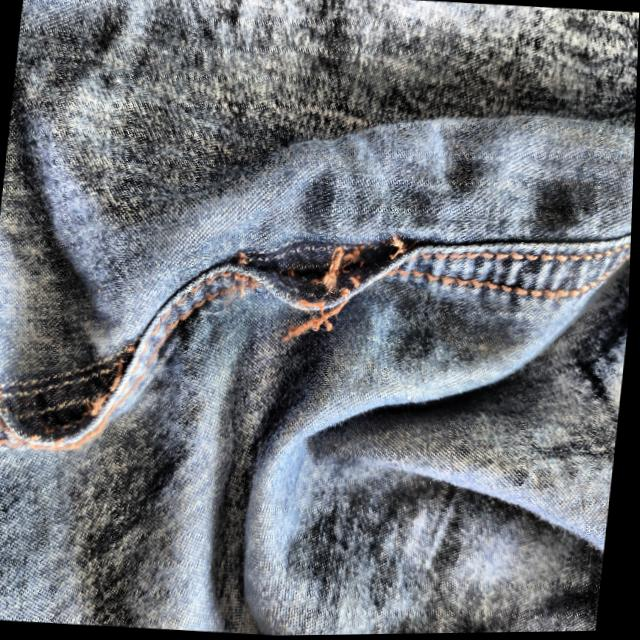seam: (239, 170, 409, 340), (0, 319, 140, 471)
